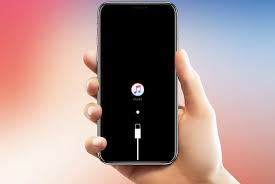iphone: (92, 1, 179, 167)
iphone10: (93, 1, 180, 167)
